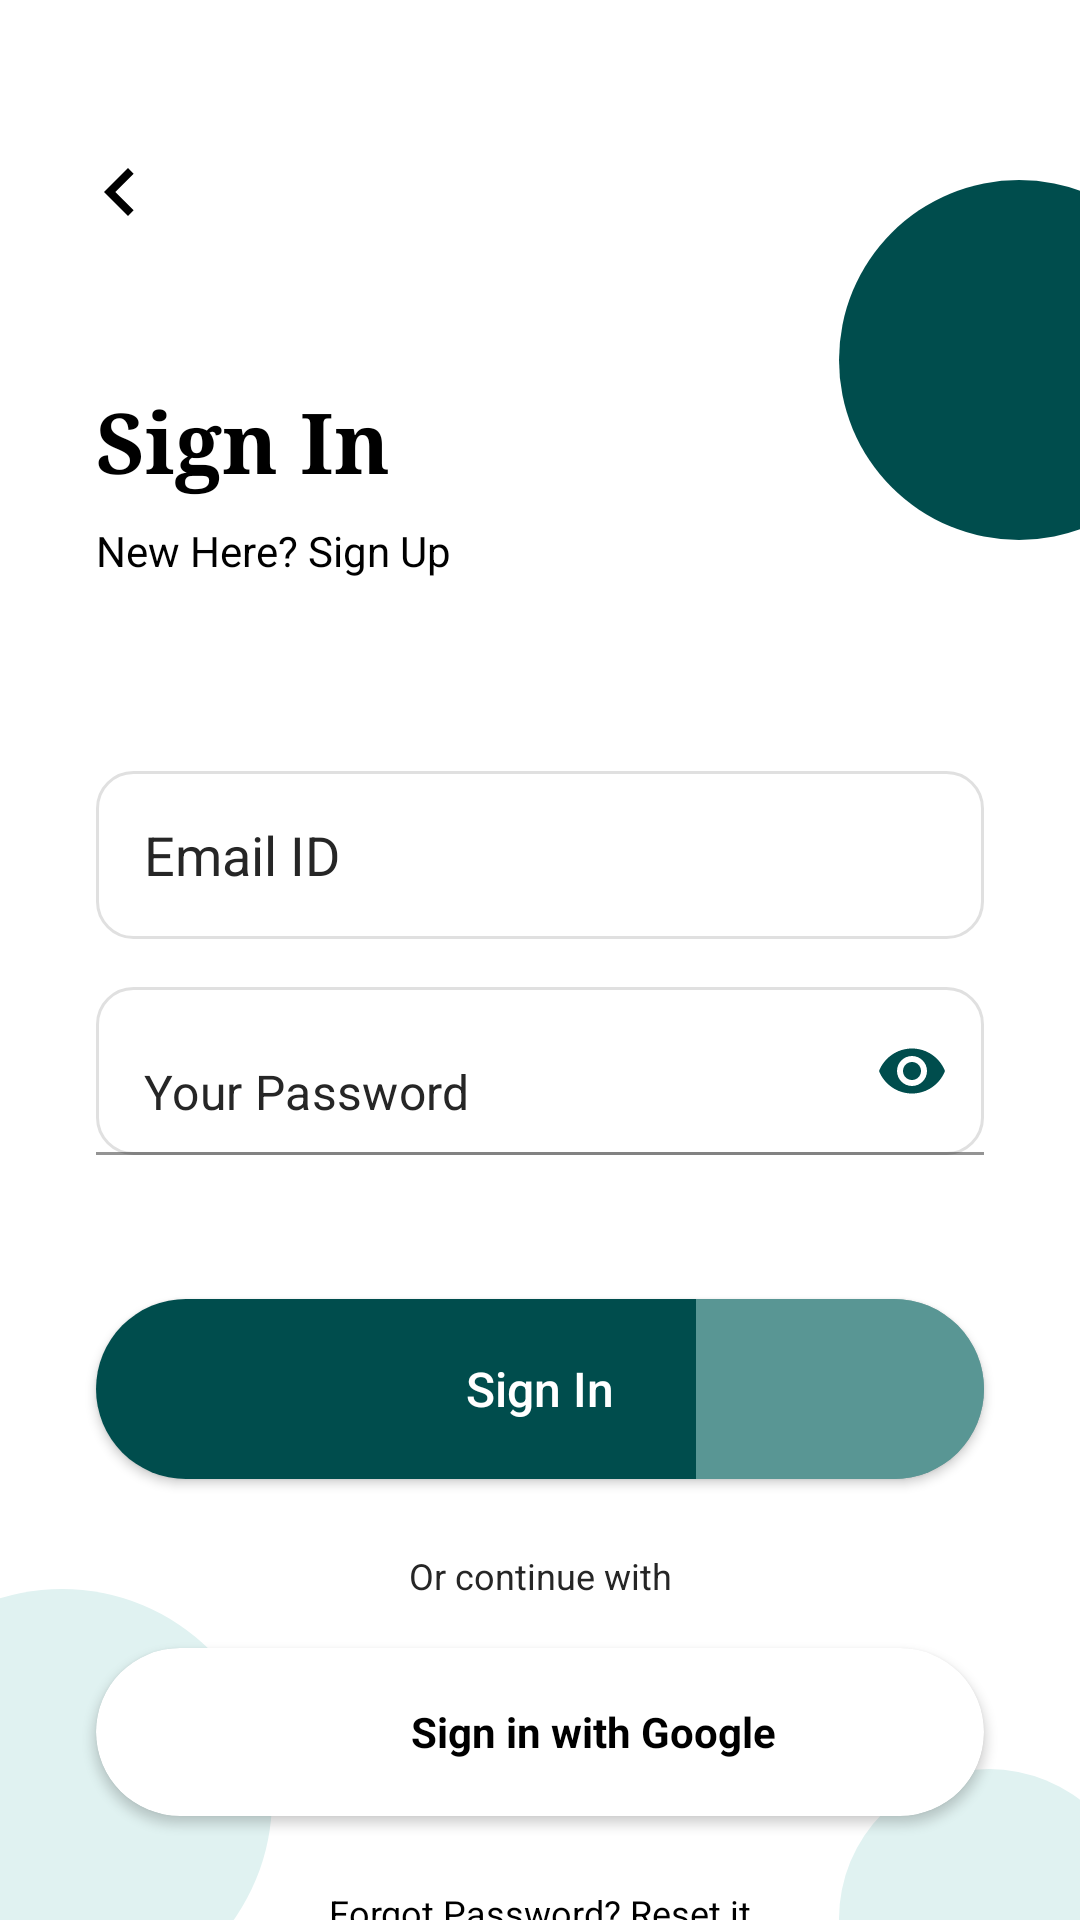

Named icons in this screenshot (1080*1920) and their bounding boxes, rect(x1, y1, x2, y2):
arrow back: rect(104, 168, 134, 216)
